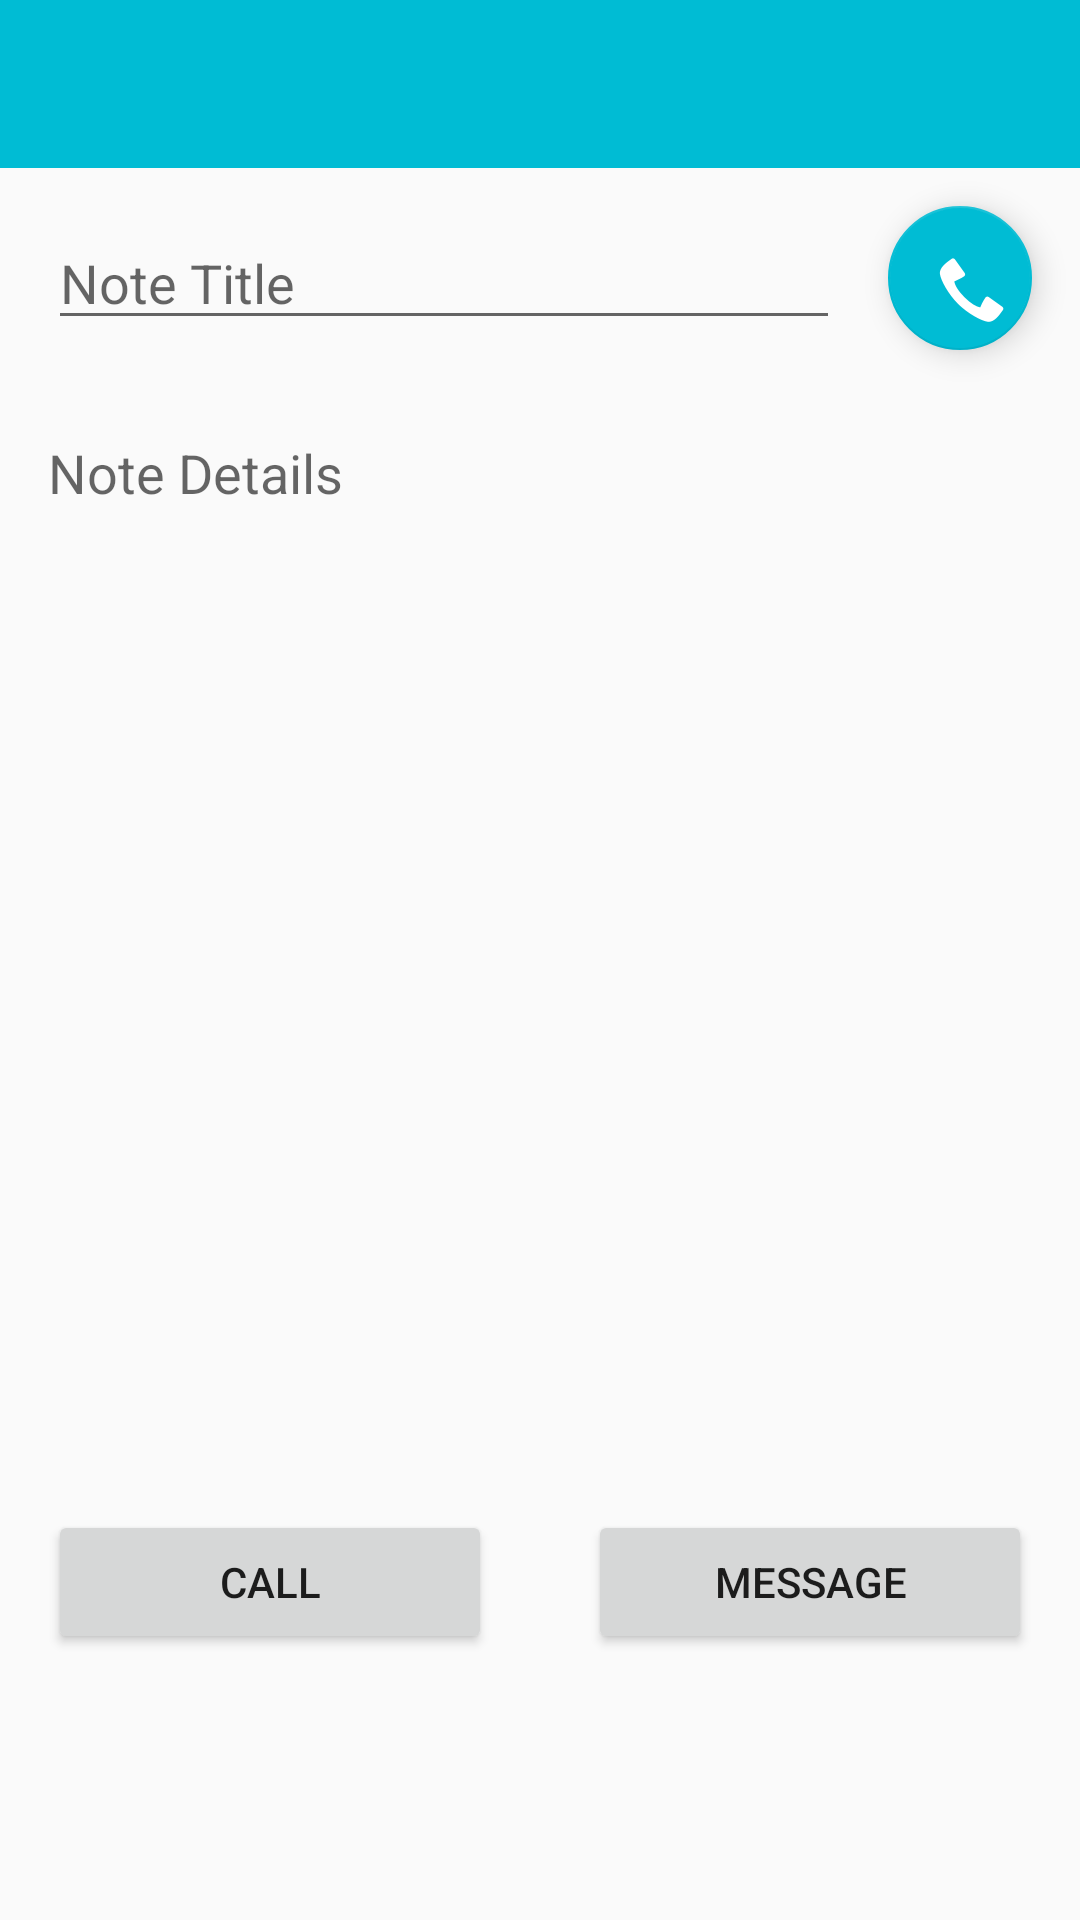

Point at icon controls on the screen. Image size 1080 x 1920, points as (x=x, y=y).
phone call: (x=960, y=278)
